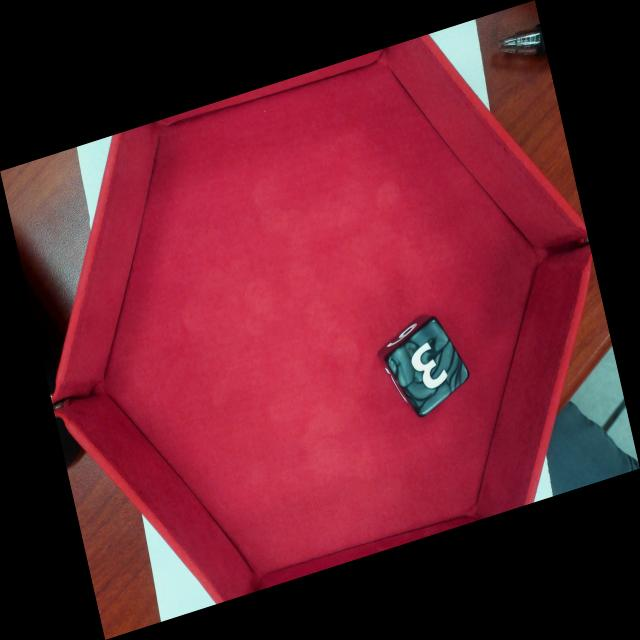dice: (388, 316, 472, 421)
